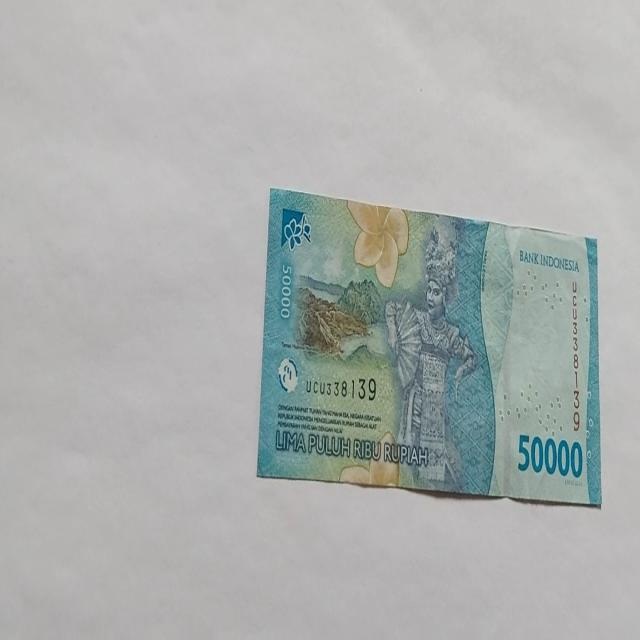lima puluh ribu rupiah: (256, 186, 602, 506)
